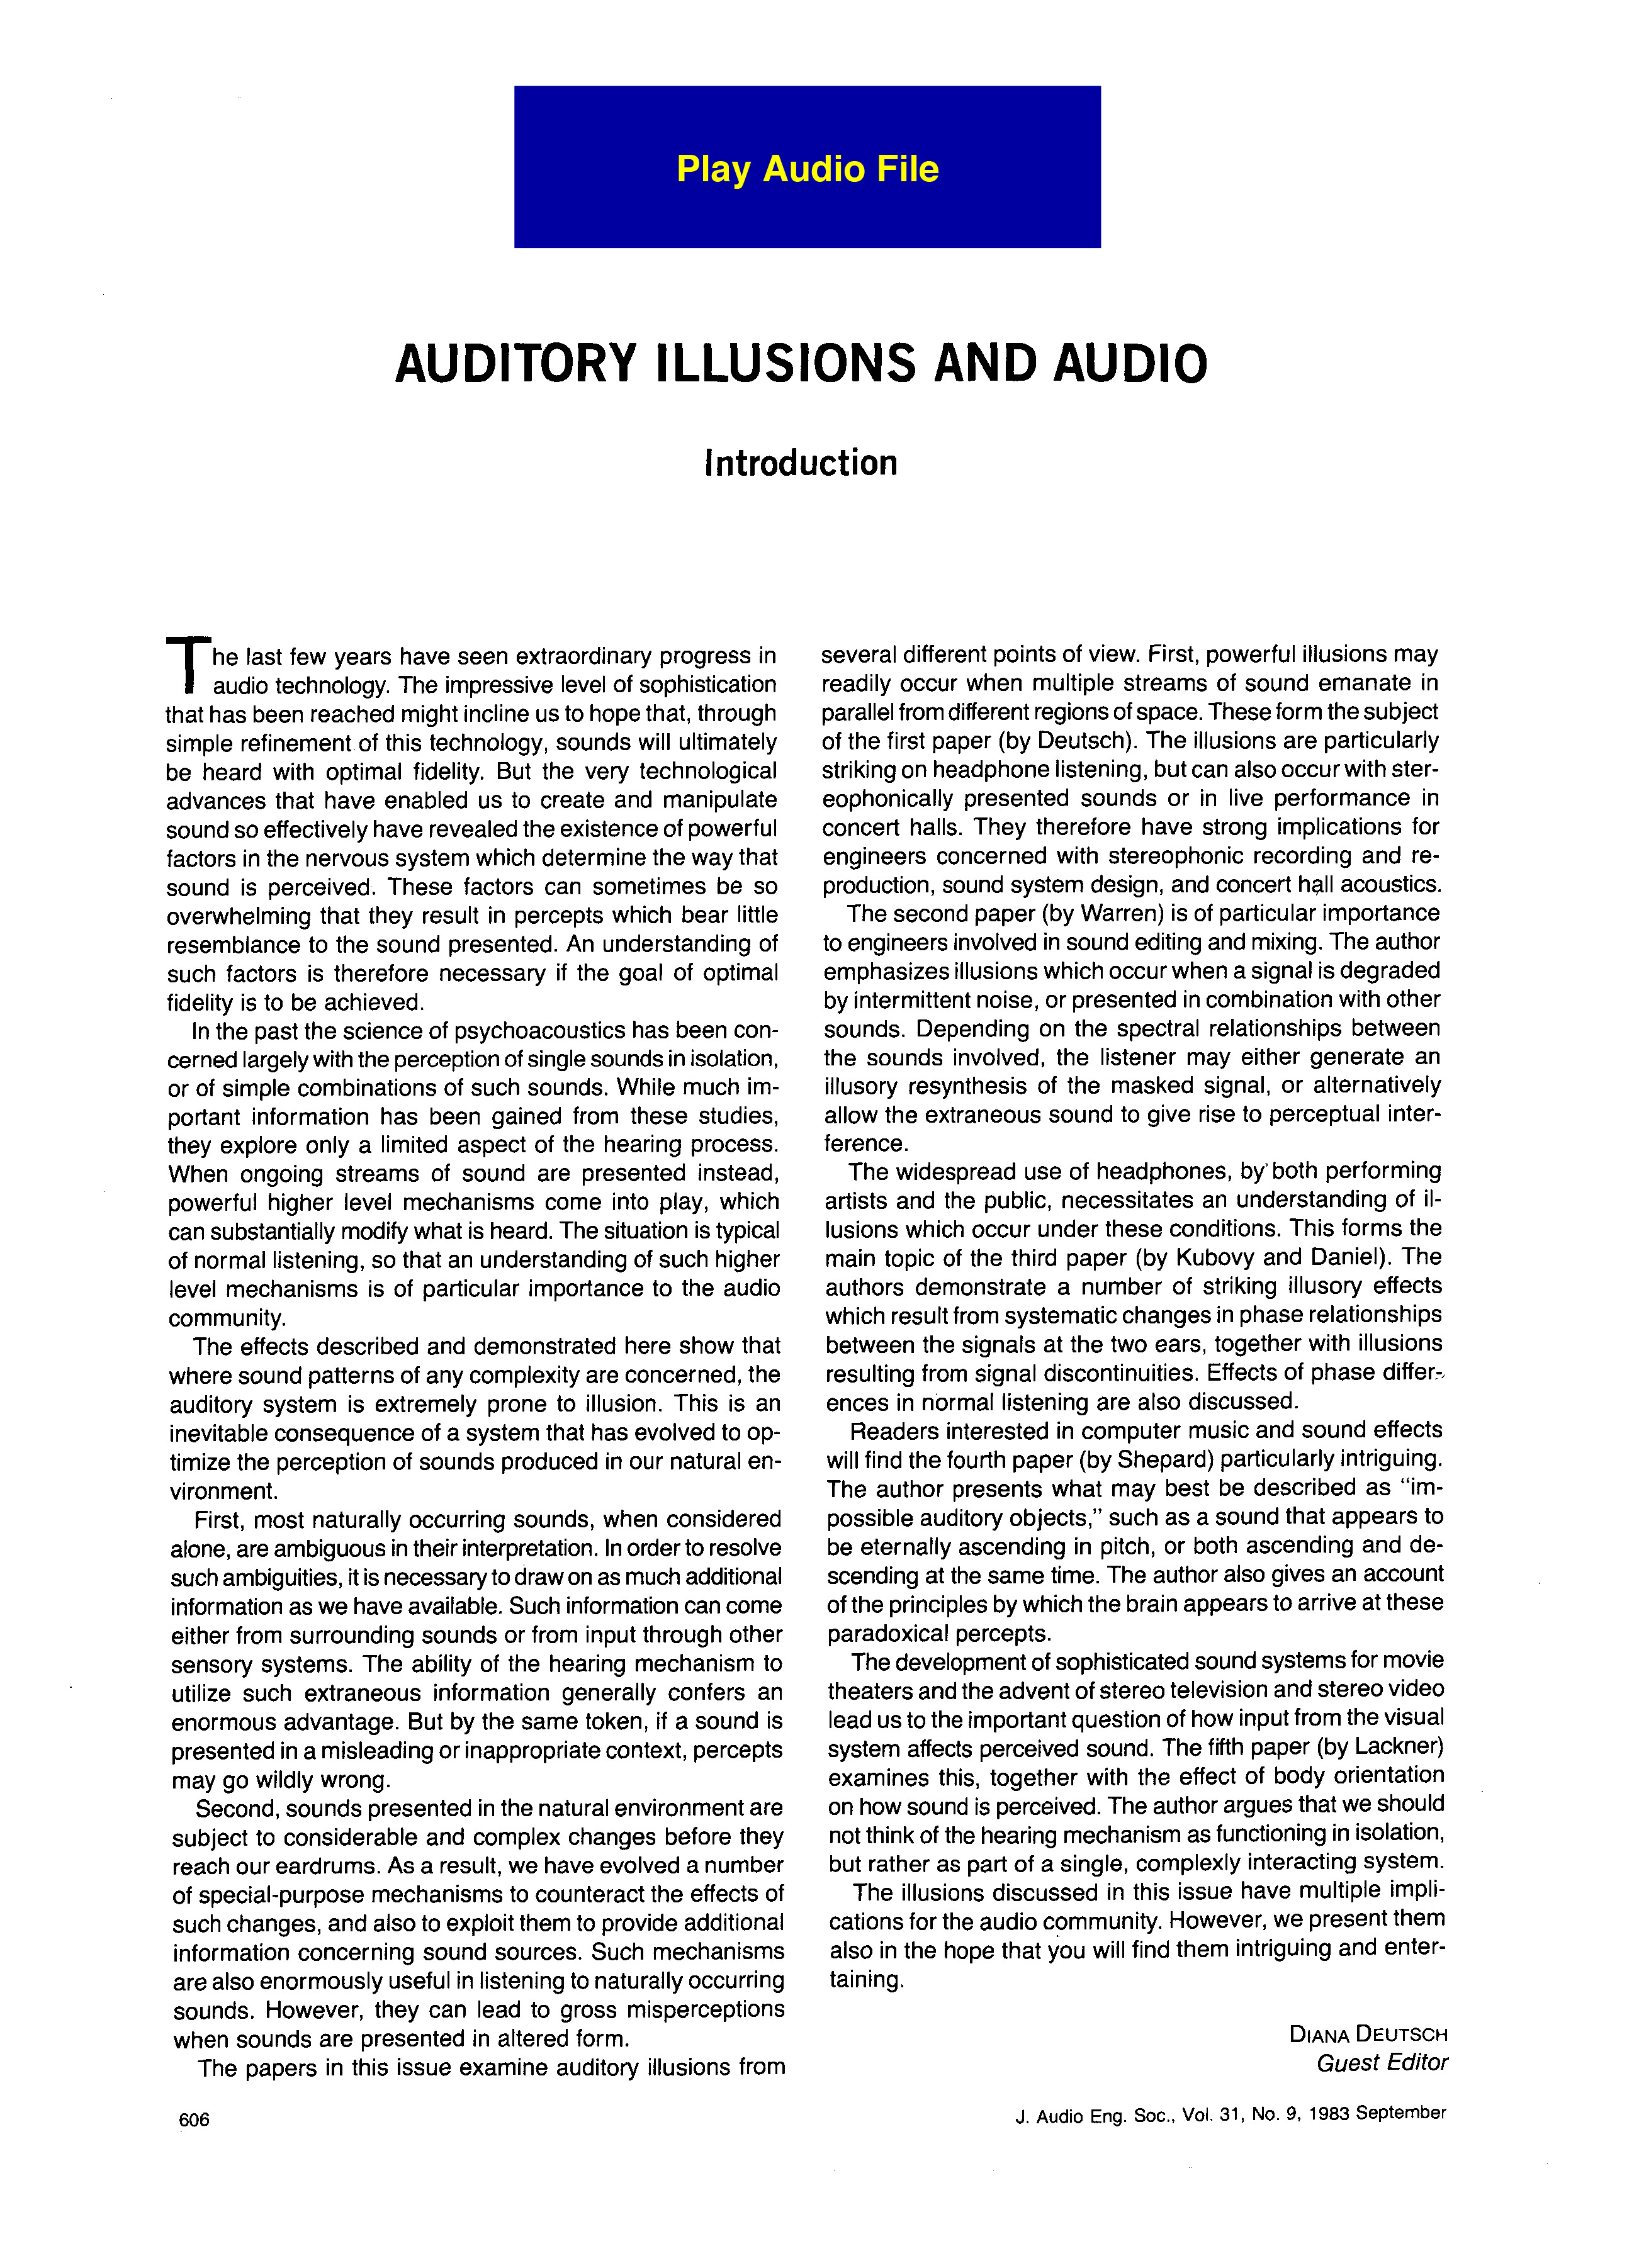section: (377, 317, 1234, 394), (650, 134, 954, 197), (685, 433, 917, 505), (1273, 2013, 1456, 2095)
text: (148, 618, 789, 1009), (162, 1020, 785, 1335), (148, 1525, 789, 1798), (162, 1791, 789, 2064), (806, 632, 1445, 896), (810, 1159, 1438, 1421), (806, 905, 1435, 1152), (824, 1652, 1442, 1884), (831, 1425, 1435, 1646), (158, 1352, 782, 1511), (817, 1881, 1452, 2002)
